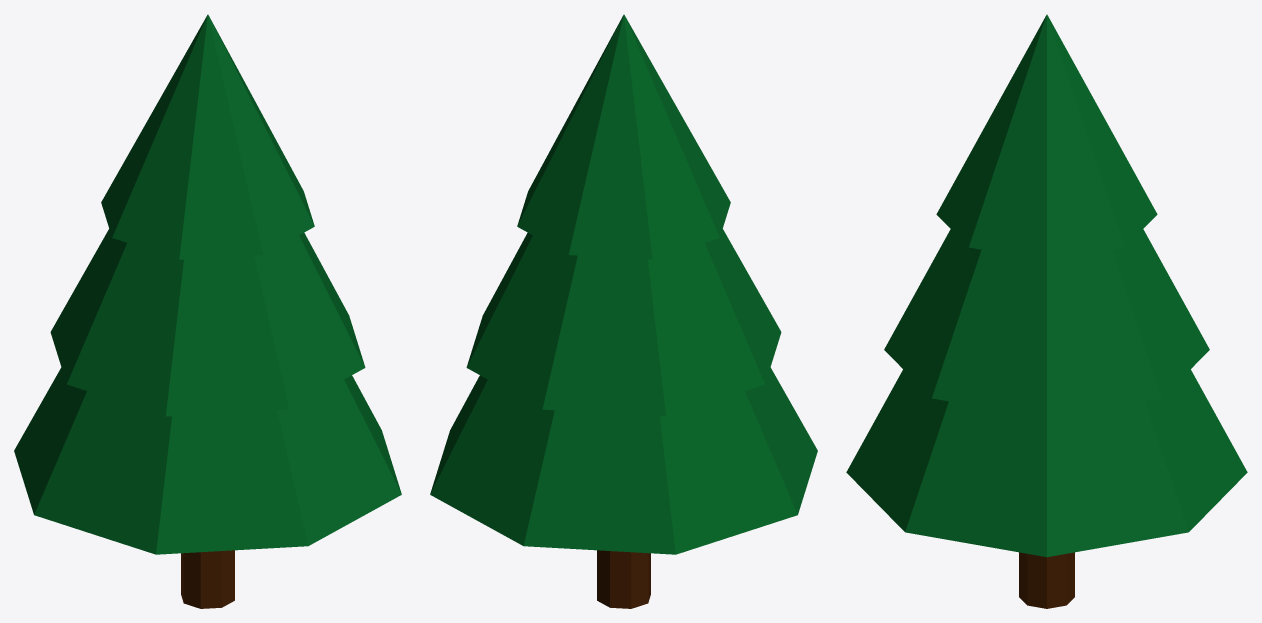
The model's file is PineTree.fbx.
3 renders of one model, left to right at view 1: azimuth 30°, elevation 25°; view 2: azimuth 150°, elevation 25°; view 3: azimuth 270°, elevation 25°, orthographic.
Parts seen in each view (by area): view 1: Tree; view 2: Tree; view 3: Tree.
Boxes of the visible parts, x1,y1,x2,y2 form: Tree: (14, 14, 401, 608); Tree: (430, 14, 817, 608); Tree: (846, 14, 1247, 608).
Size of the model in its own units: 4.86 by 7.79 by 4.86.
